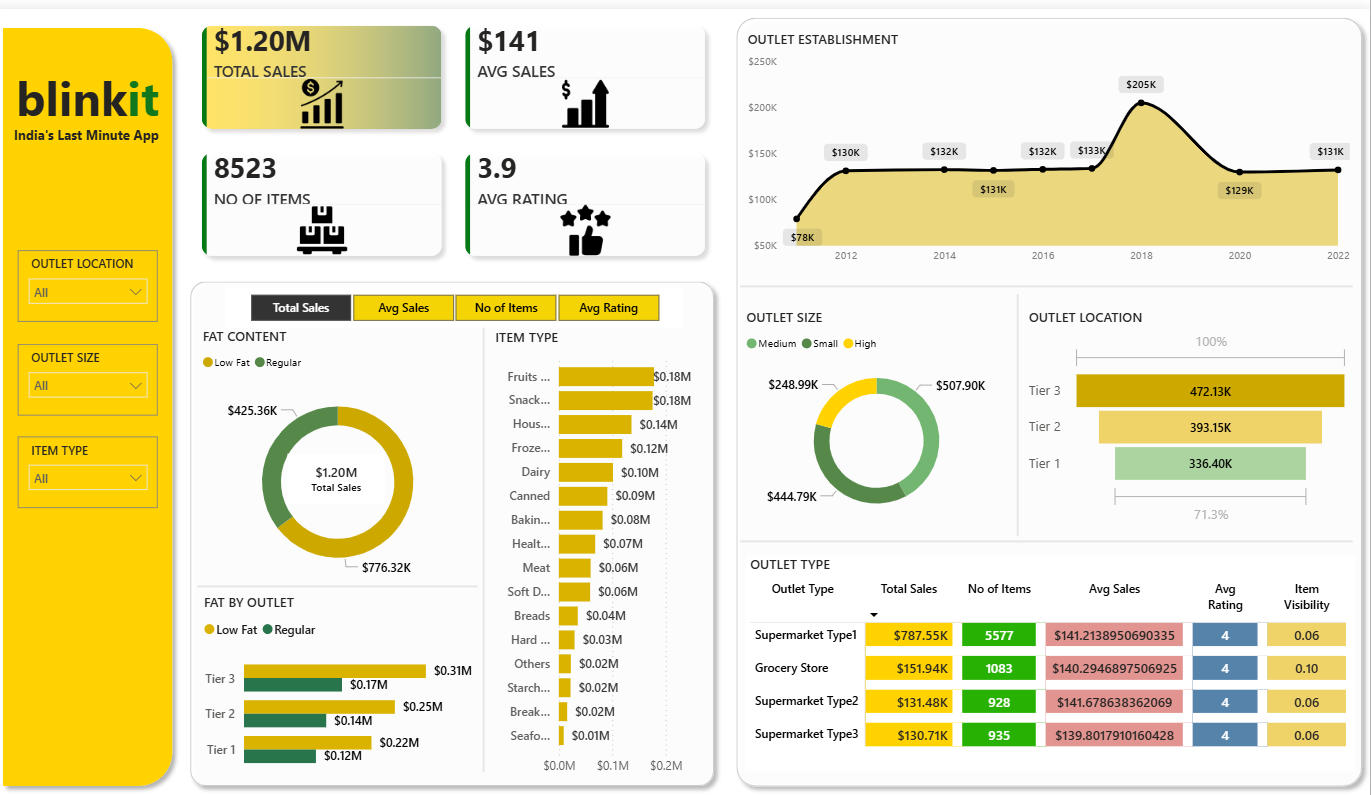

What the dashboard file says about the page in this screenshot:
{"tool":"powerbi","page":{"name":"Page 1","canvas":[1400,800],"ordinal":0},"visuals":[{"type":"shape","box":[0,10.5,190.6,789.5],"z":0},{"type":"textbox","box":[8.9,52.1,173,81.4],"z":1000},{"type":"textbox","box":[15.3,114.5,160.2,30.5],"z":2000},{"type":"cardVisual","fields":{"Data":["BlinkIT Grocery Data.Total Sales","BlinkIT Grocery Data.Avg Sales","BlinkIT Grocery Data.No of Items","BlinkIT Grocery Data.Avg Rating"]},"box":[194.6,0,546.9,268.3],"z":3000},{"type":"shape","box":[190.6,268.7,550.8,531.3],"z":4000},{"type":"donutChart","title":"FAT CONTENT","fields":{"Y":["BlinkIT Grocery Data.Total Sales"],"Category":["BlinkIT Grocery Data.Item Fat Content"]},"box":[207.1,322.7,285.2,271.7],"z":5000},{"type":"slicer","fields":{"Values":["Metrics.Metrics"]},"box":[235.6,283.7,465.3,40.5],"z":6000},{"type":"cardVisual","fields":{"Data":["BlinkIT Grocery Data.Total Sales"]},"box":[294.2,447.3,109.6,60],"z":7000},{"type":"clusteredBarChart","title":"FAT BY OUTLET","fields":{"Y":["BlinkIT Grocery Data.Total Sales"],"Category":["BlinkIT Grocery Data.Outlet Location Type"],"Series":["BlinkIT Grocery Data.Item Fat Content"]},"box":[208.4,594.1,284.4,194.6],"z":8000},{"type":"shape","box":[207.1,579.3,285.2,15],"z":9000},{"type":"shape","box":[492.3,324.2,12,451.8],"z":10000},{"type":"barChart","title":"ITEM TYPE","fields":{"Y":["BlinkIT Grocery Data.Total Sales"],"Category":["BlinkIT Grocery Data.Item Type"]},"box":[504.3,324.2,226.6,463.8],"z":11000},{"type":"shape","box":[745.9,0,654.4,800],"z":12000},{"type":"lineChart","title":" OUTLET ESTABLISHMENT","fields":{"Category":["BlinkIT Grocery Data.Outlet Establishment Year"],"Y":["BlinkIT Grocery Data.Total Sales"]},"box":[762.2,21.9,622.9,246.4],"z":13000},{"type":"shape","box":[758.8,275.2,622.9,15],"z":14000},{"type":"donutChart","title":"OUTLET SIZE","fields":{"Y":["BlinkIT Grocery Data.Total Sales"],"Category":["BlinkIT Grocery Data.Outlet Size"]},"box":[761.1,304,275.2,225.7],"z":15000},{"type":"shape","box":[1035.1,290.2,12.7,246.4],"z":16000},{"type":"funnel","title":"OUTLET LOCATION","fields":{"Category":["BlinkIT Grocery Data.Outlet Location Type"],"Y":["Sum(BlinkIT Grocery Data.Sales)"]},"box":[1047.8,304,336.2,225.7],"z":17000},{"type":"shape","box":[758.8,534.3,622.9,15],"z":18000},{"type":"pivotTable","title":"OUTLET TYPE","fields":{"Rows":["BlinkIT Grocery Data.Outlet Type"],"Values":["BlinkIT Grocery Data.Total Sales","BlinkIT Grocery Data.No of Items","BlinkIT Grocery Data.Avg Sales","BlinkIT Grocery Data.Avg Rating","Avg(BlinkIT Grocery Data.Item Visibility)"]},"box":[764.5,556.1,620.6,219.9],"z":19000},{"type":"slicer","fields":{"Values":["BlinkIT Grocery Data.Outlet Location Type"]},"box":[24.2,245.5,142.4,72.5],"z":20000},{"type":"slicer","fields":{"Values":["BlinkIT Grocery Data.Outlet Size"]},"box":[24.2,340.8,142.4,72.5],"z":21000},{"type":"slicer","fields":{"Values":["BlinkIT Grocery Data.Item Type"]},"box":[24.2,435,142.4,72.5],"z":22000}]}

Visuals, with their boxes in screenshot pixels (x1, y1, x2, y2), scaled from the page's 1400x800 canvas onto the 1372x795 screenshot:
shape: bbox=[0, 10, 187, 794]
textbox: bbox=[9, 52, 178, 133]
textbox: bbox=[15, 114, 172, 144]
cardVisual - BlinkIT Grocery Data.Total Sales x BlinkIT Grocery Data.Avg Sales: bbox=[191, 0, 727, 267]
shape: bbox=[187, 267, 727, 794]
"FAT CONTENT" donutChart: bbox=[203, 321, 482, 591]
slicer - Metrics.Metrics: bbox=[231, 282, 687, 322]
cardVisual - BlinkIT Grocery Data.Total Sales: bbox=[288, 445, 396, 504]
"FAT BY OUTLET" clusteredBarChart: bbox=[204, 590, 483, 784]
shape: bbox=[203, 576, 482, 591]
shape: bbox=[482, 322, 494, 771]
"ITEM TYPE" barChart: bbox=[494, 322, 716, 783]
shape: bbox=[731, 0, 1371, 794]
" OUTLET ESTABLISHMENT" lineChart: bbox=[747, 22, 1357, 267]
shape: bbox=[744, 273, 1354, 288]
"OUTLET SIZE" donutChart: bbox=[746, 302, 1016, 526]
shape: bbox=[1014, 288, 1027, 533]
"OUTLET LOCATION" funnel: bbox=[1027, 302, 1356, 526]
shape: bbox=[744, 531, 1354, 546]
"OUTLET TYPE" pivotTable: bbox=[749, 553, 1357, 771]
slicer - BlinkIT Grocery Data.Outlet Location Type: bbox=[24, 244, 163, 316]
slicer - BlinkIT Grocery Data.Outlet Size: bbox=[24, 339, 163, 411]
slicer - BlinkIT Grocery Data.Item Type: bbox=[24, 432, 163, 504]
